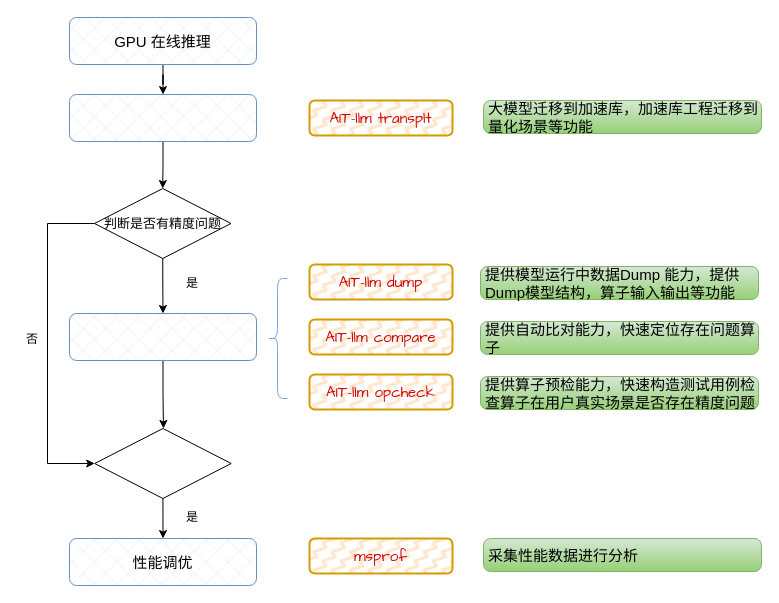
Some shapes in this 779 by 603 pixel diagram are drawn without their labels. The box of each missing label's shape, as (x1, y1, x2, y2) in pixels:
判断是否有性能问题: (94, 428, 231, 498)
应用迁移（ATB/TorchAir）: (68, 94, 256, 142)
精度定位: (68, 312, 256, 360)
